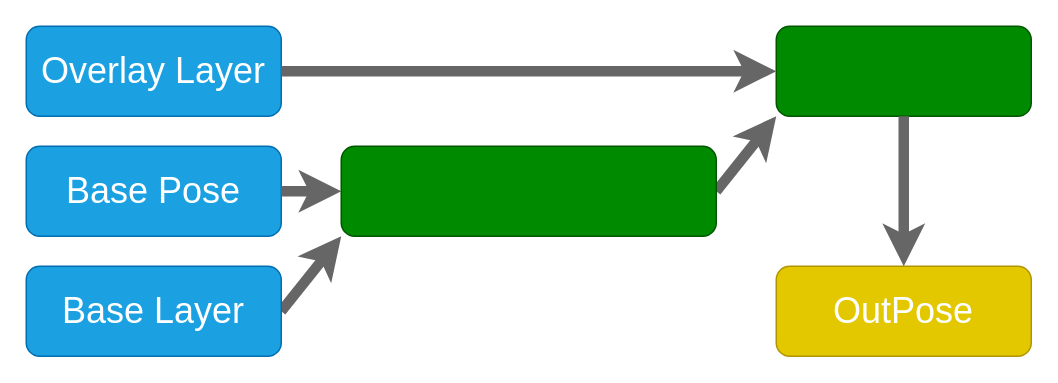
Some shapes in this 1058 by 383 pixel diagram are drawn without their labels. The centre of each missing label's shape, as x and y in pixels:
ApplyAdditive: (903,70)
MakeDynamicAdditive: (528,190)
